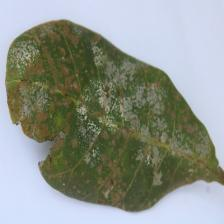red rust: (4, 18, 224, 212)
